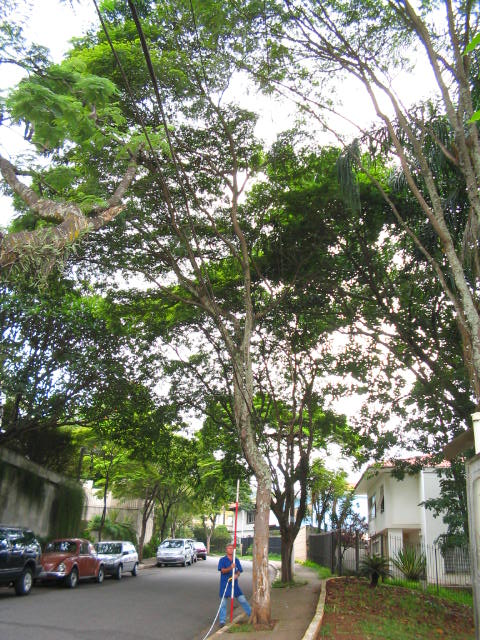stem: (241, 366, 288, 624)
stick: (225, 479, 241, 622)
tree: (9, 17, 361, 625)
